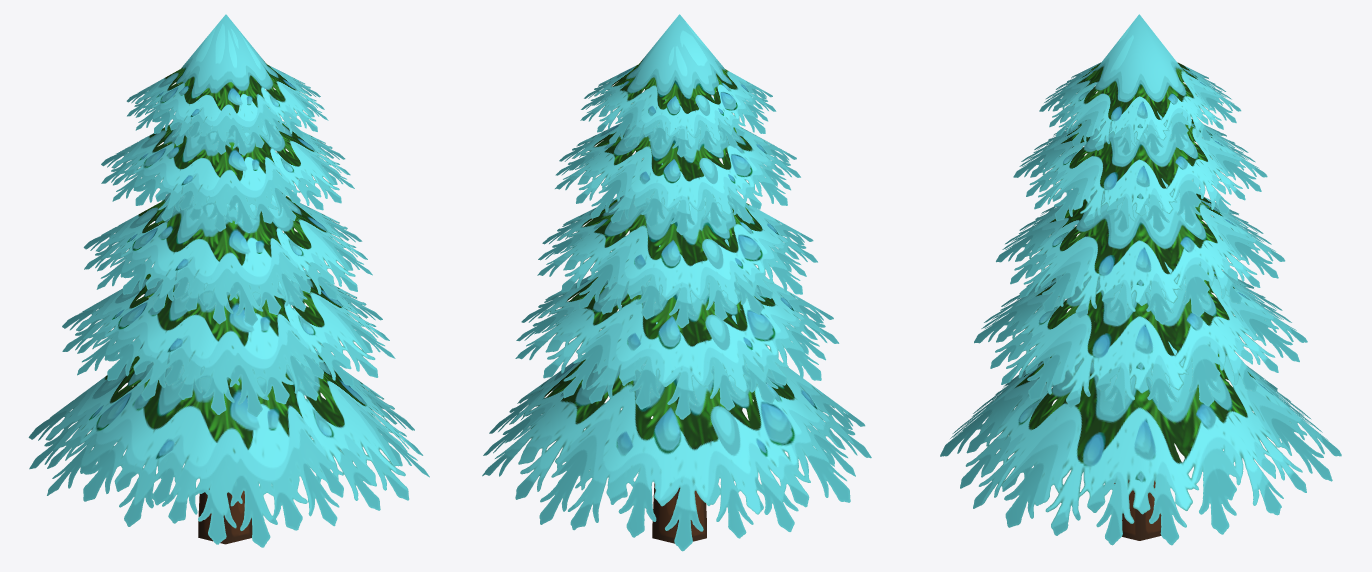
File: PineTree_withSnow.FBX
3 views of the same model, side by side, from view 1: azimuth 30°, elevation 25°; view 2: azimuth 150°, elevation 25°; view 3: azimuth 270°, elevation 25° (orthographic).
Parts seen in each view (by area): view 1: Object579; view 2: Object579; view 3: Object579.
Boxes of the visible parts, x1=… form: Object579: x1=28, y1=14, x2=429, y2=547; Object579: x1=482, y1=14, x2=871, y2=551; Object579: x1=940, y1=14, x2=1341, y2=545.
Bounding box in the file's own units: 139 × 180 × 139.
Materials: 1 (1 with a texture image).
